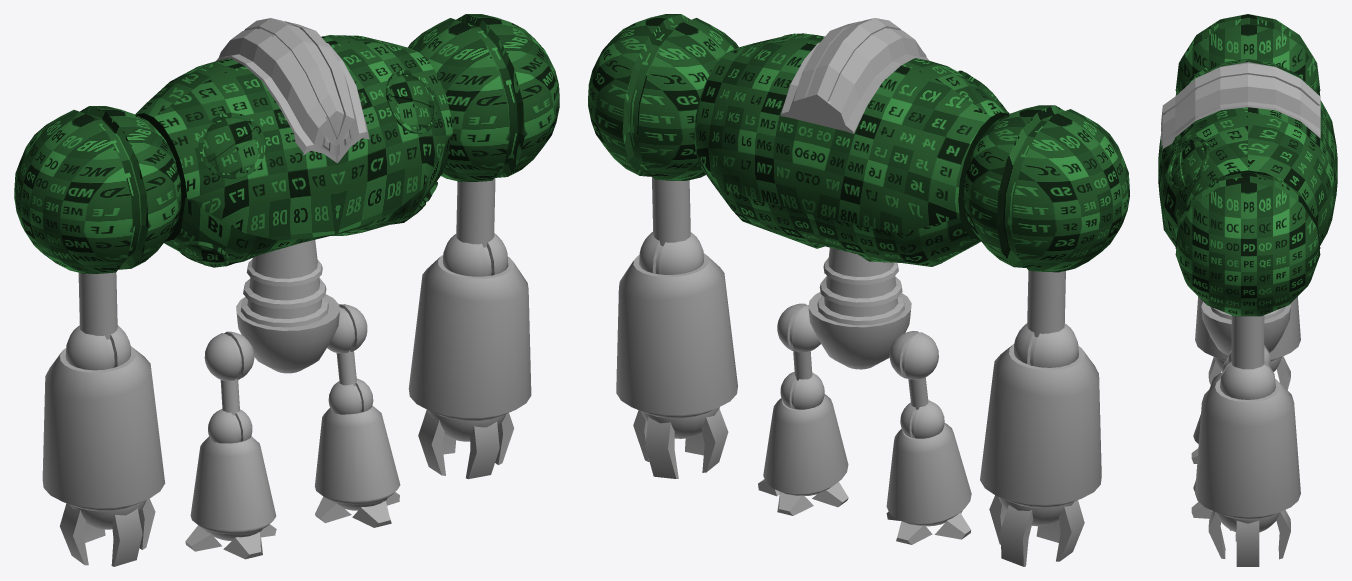
The model's file is Robot Chest UV.fbx.
3 views of the same model, side by side, from view 1: azimuth 30°, elevation 25°; view 2: azimuth 150°, elevation 25°; view 3: azimuth 270°, elevation 25° (orthographic). The views are drawn at different scales.
Visible parts, largest first — view 1: L_Shoulder (×2), Upper_Body (×2), L_Forearm (×2), L_Calf (×2), Head (×2), Lower_Body, L_Bicep (×2), L_Elbow (×2), Screw (×2), Pelvis, L_Hip (×2), HandClaw_Front (×2) (+6 smaller); view 2: Upper_Body (×2), L_Shoulder (×2), L_Forearm (×2), L_Calf (×2), Head (×2), Lower_Body, L_Bicep (×2), L_Elbow (×2), Pelvis, L_Hip (×2), HandClaw_Back (×2), L_Knee (×2) (+3 smaller); view 3: L_Shoulder (×2), L_Forearm (×2), Upper_Body (×2), Head, L_Bicep, Pelvis, L_Elbow, HandClaw_L, Screw, HandClaw_Back (×2), Ring, L_Wrist (+3 smaller).
Boxes of the visible parts, x1,y1,x2,y2 form: L_Shoulder (×2): (14, 14, 559, 273); Upper_Body (×2): (135, 35, 452, 267); L_Forearm (×2): (42, 255, 531, 511); L_Calf (×2): (190, 405, 400, 534); Head (×2): (216, 18, 369, 163); Lower_Body: (240, 240, 328, 327); L_Bicep (×2): (78, 178, 495, 339); L_Elbow (×2): (66, 233, 507, 370); Screw (×2): (203, 74, 433, 174); Pelvis: (236, 294, 339, 373); L_Hip (×2): (204, 304, 367, 380); HandClaw_Front (×2): (111, 422, 499, 566); Upper_Body (×2): (694, 35, 1009, 266); L_Shoulder (×2): (588, 14, 1129, 272); L_Forearm (×2): (616, 253, 1101, 508); L_Calf (×2): (763, 394, 971, 525); Head (×2): (780, 18, 928, 133); Lower_Body: (817, 247, 904, 325); L_Bicep (×2): (652, 177, 1065, 337); L_Elbow (×2): (639, 232, 1078, 367); Pelvis: (808, 292, 911, 369); L_Hip (×2): (777, 303, 938, 379); HandClaw_Back (×2): (645, 417, 1033, 566); L_Knee (×2): (780, 371, 944, 438); L_Shoulder (×2): (1175, 14, 1320, 316); L_Forearm (×2): (1195, 296, 1300, 519); Upper_Body (×2): (1158, 59, 1337, 246); Head: (1161, 63, 1320, 150); L_Bicep: (1231, 315, 1264, 369); Pelvis: (1201, 301, 1290, 355); L_Elbow: (1220, 361, 1275, 399); HandClaw_L: (1236, 520, 1259, 566); Screw: (1171, 141, 1204, 186); HandClaw_Back (×2): (1276, 356, 1290, 559); Ring: (1167, 136, 1209, 190); L_Wrist: (1215, 512, 1279, 532).
Bounding box in the file's own units: 4.36 × 3.94 × 1.5.
2 materials, 1 textured.
